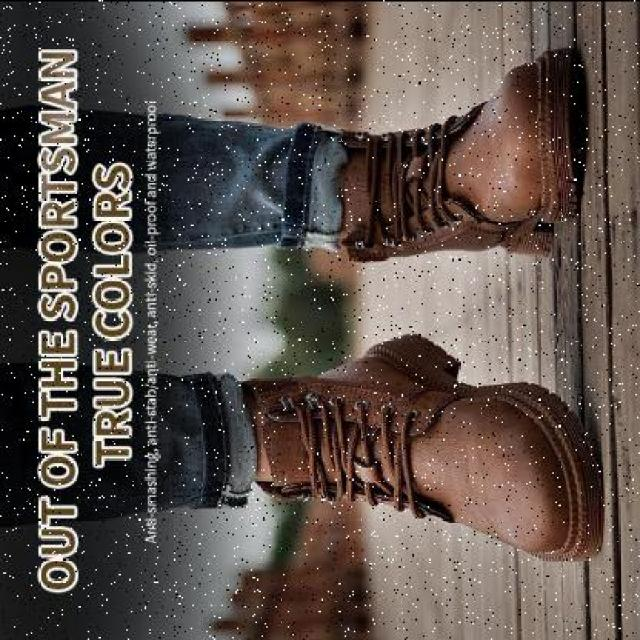shoes: (251, 356, 580, 519), (342, 48, 590, 260)
